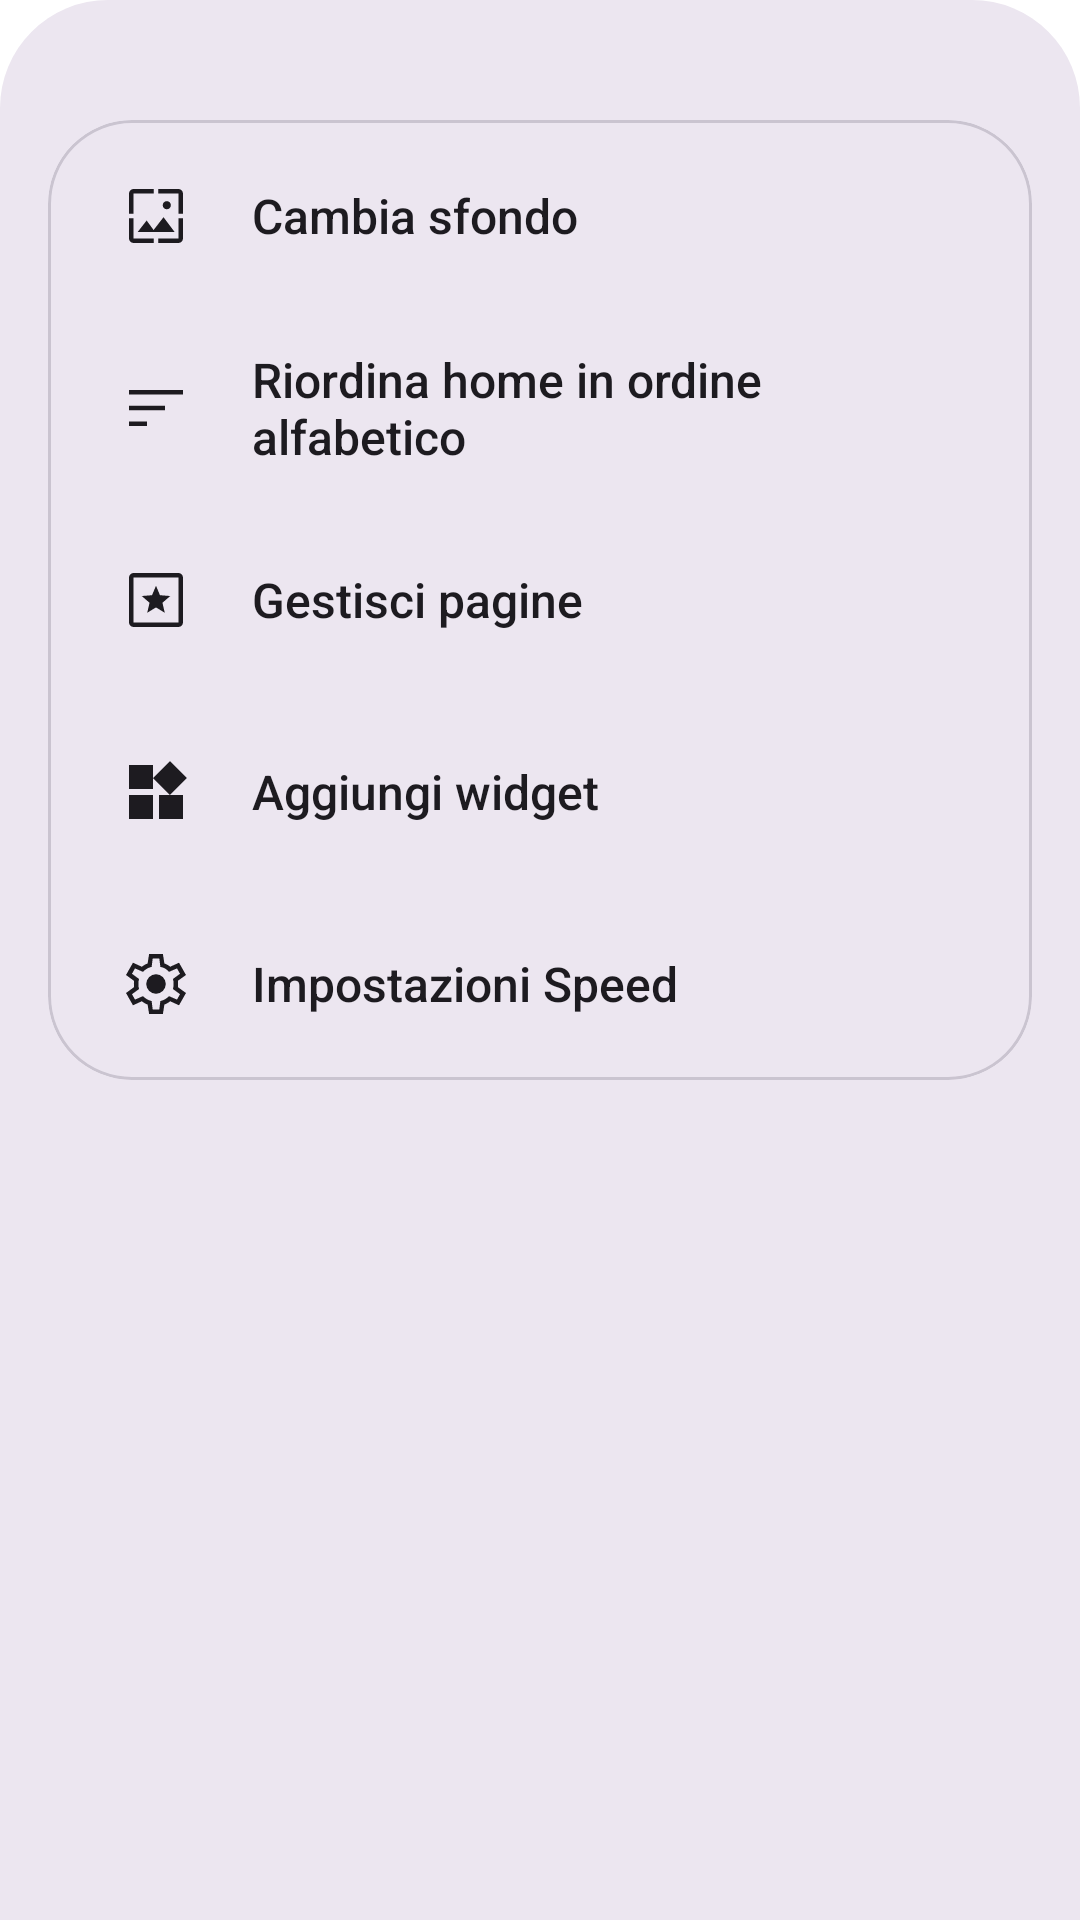

Icon bounding boxes for this 1080w x 1920h phone screenshot, format (x1, y1, x2, y2):
settings: (126, 954, 186, 1014)
sort: (129, 390, 183, 426)
widgets: (129, 761, 187, 819)
